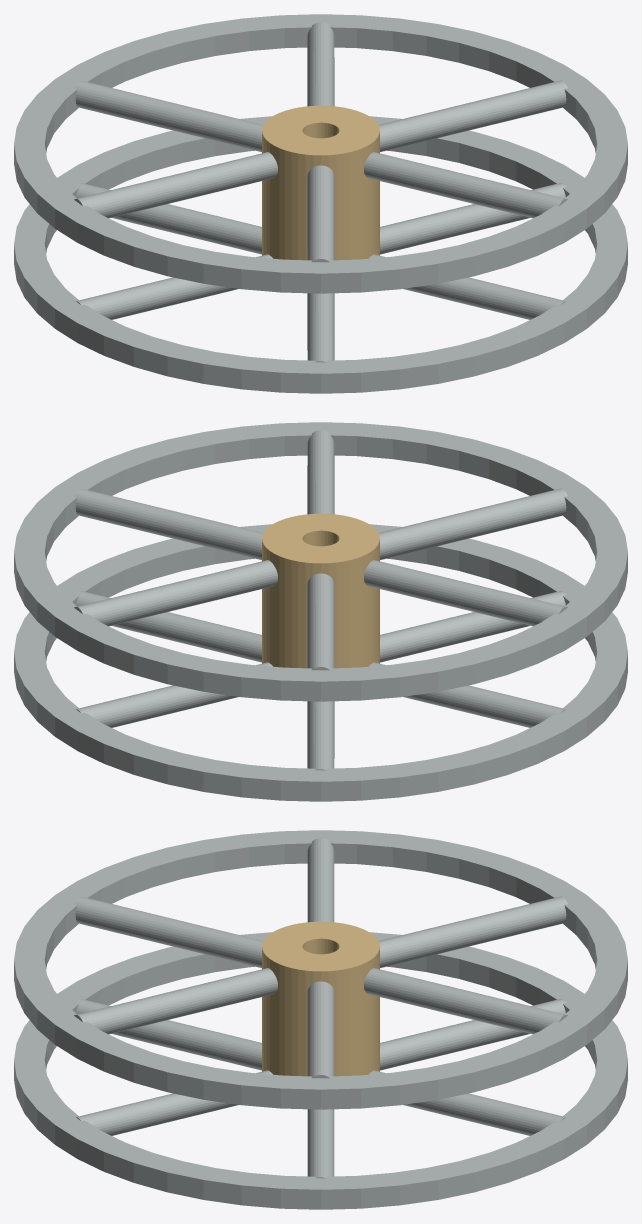
Rendered from film-reel.glb.
3 views of the same model, one above another, from view 1: azimuth 30°, elevation 25°; view 2: azimuth 150°, elevation 25°; view 3: azimuth 270°, elevation 25° (orthographic).
Parts seen in each view (by area): view 1: abandoned-cinema-and-projection-booth-film-reel; view 2: abandoned-cinema-and-projection-booth-film-reel; view 3: abandoned-cinema-and-projection-booth-film-reel.
Boxes of the visible parts, <box> form: abandoned-cinema-and-projection-booth-film-reel: <box>14,14,627,393</box>; abandoned-cinema-and-projection-booth-film-reel: <box>14,422,627,801</box>; abandoned-cinema-and-projection-booth-film-reel: <box>14,830,627,1209</box>.
Bounding box in the file's own units: 0.5 × 0.123 × 0.5.
